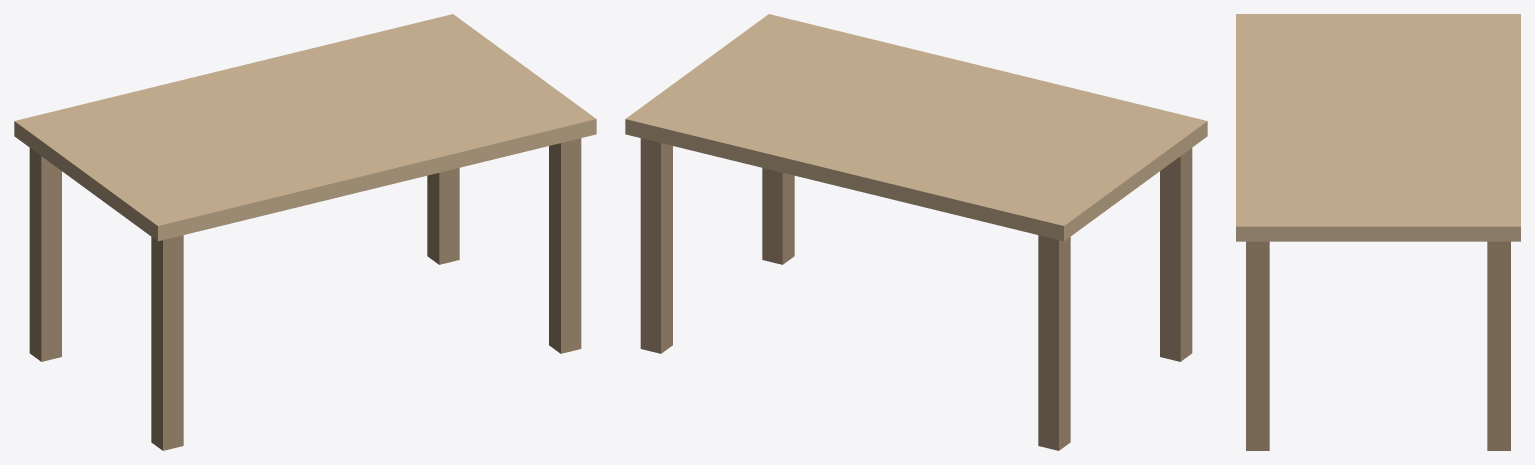
The model's file is dining_table.glb.
3 renders of one model, left to right at view 1: azimuth 30°, elevation 25°; view 2: azimuth 150°, elevation 25°; view 3: azimuth 270°, elevation 25°, orthographic.
Bounding box in the file's own units: 1500 × 755 × 850.
